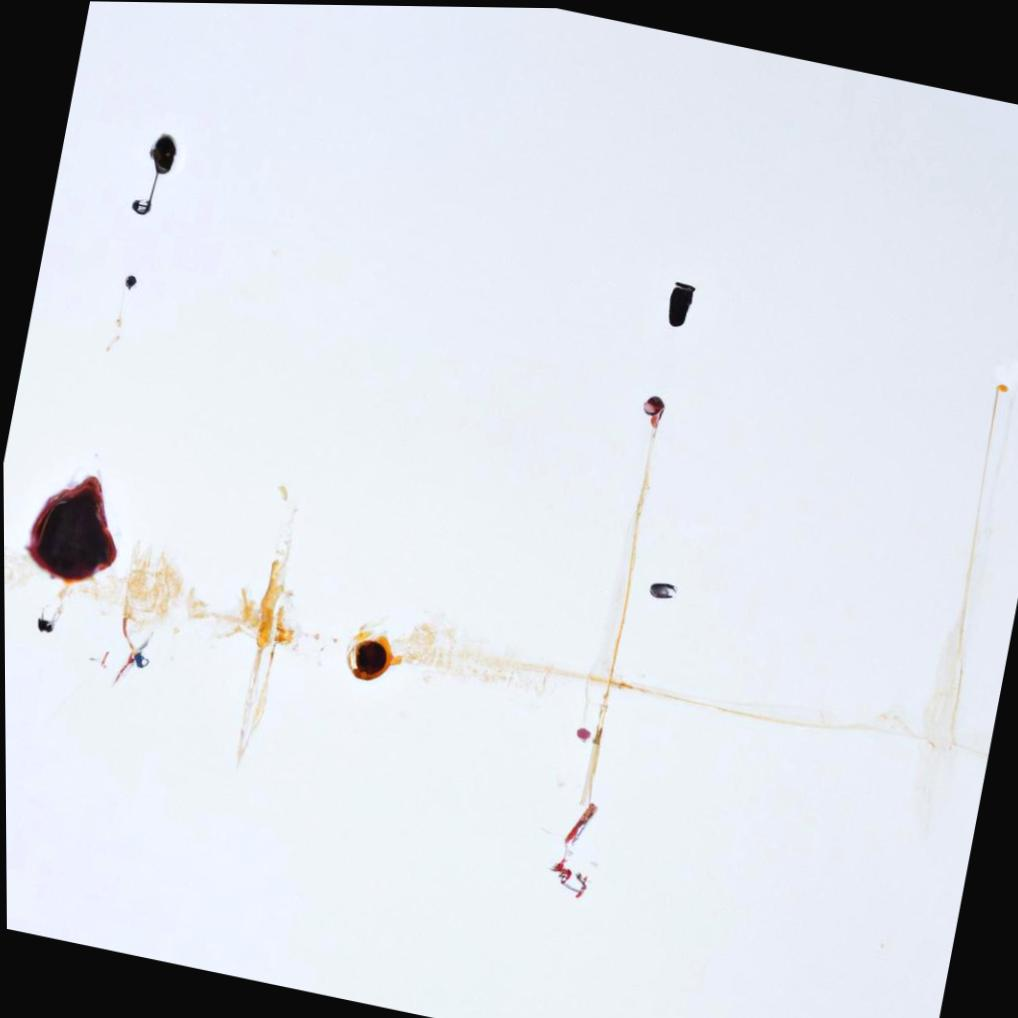Fire: (23, 476, 116, 586)
